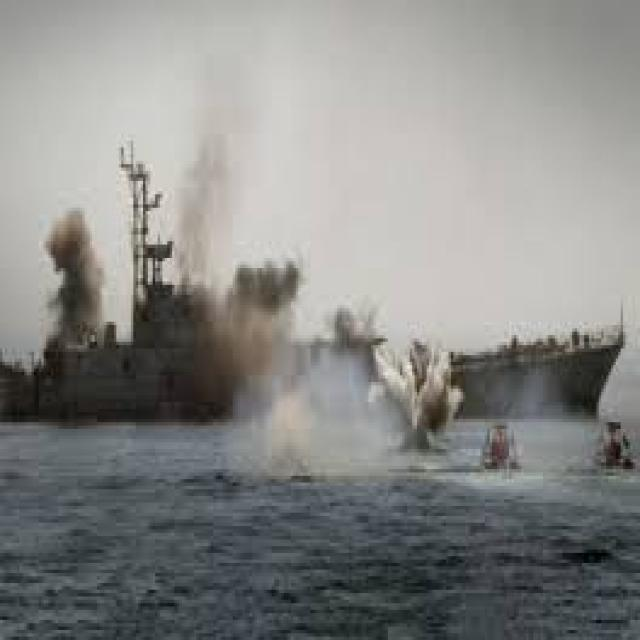navalvessels: (12, 130, 623, 460)
